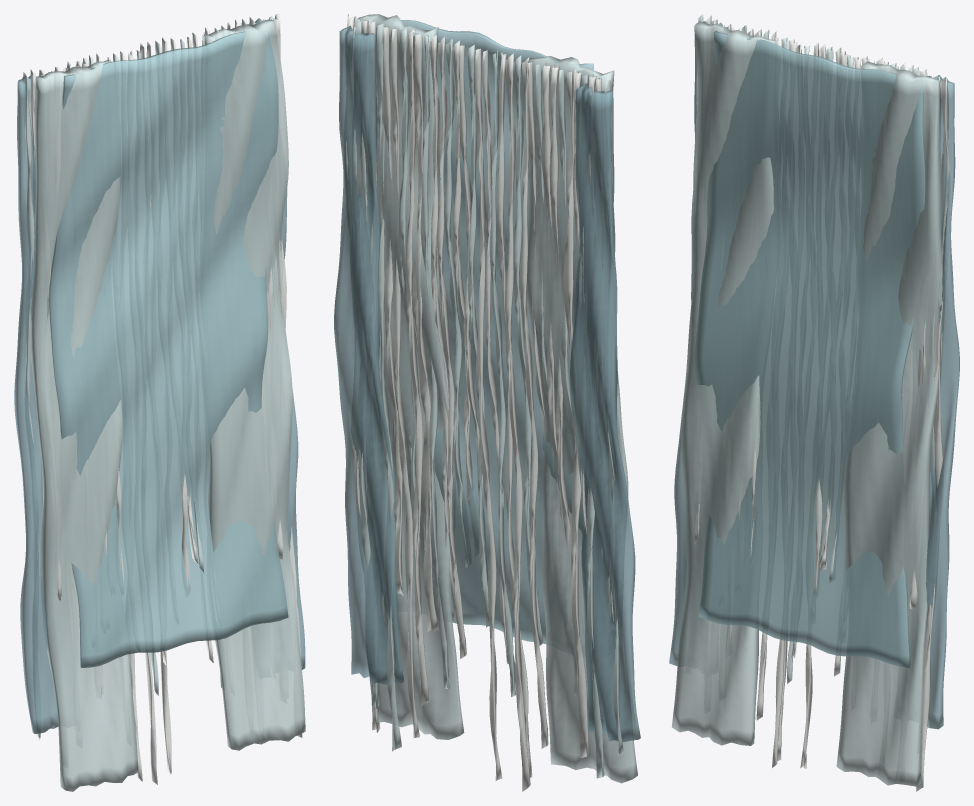
The model's file is waterfall-curtain.glb.
The picture shows the model from 3 angles, left to right: view 1: azimuth 30°, elevation 25°; view 2: azimuth 150°, elevation 25°; view 3: azimuth 330°, elevation 25°; orthographic projection. The views are drawn at different scales.
Parts seen in each view (by area): view 1: waterfall-curtain__water, waterfall-curtain__water_silver, waterfall-curtain__water_shadow, waterfall-curtain__water_foam; view 2: waterfall-curtain__water_silver, waterfall-curtain__water_foam, waterfall-curtain__water_shadow, waterfall-curtain__water; view 3: waterfall-curtain__water, waterfall-curtain__water_silver, waterfall-curtain__water_shadow, waterfall-curtain__water_foam.
Boxes of the visible parts, box(x1,y1,x2,y2) form: waterfall-curtain__water: box(48, 29, 288, 667); waterfall-curtain__water_silver: box(23, 16, 305, 791); waterfall-curtain__water_shadow: box(14, 18, 305, 733); waterfall-curtain__water_foam: box(29, 14, 302, 784); waterfall-curtain__water_silver: box(350, 14, 637, 783); waterfall-curtain__water_foam: box(344, 14, 614, 791); waterfall-curtain__water_shadow: box(334, 26, 640, 742); waterfall-curtain__water: box(384, 20, 593, 644); waterfall-curtain__water: box(694, 31, 925, 667); waterfall-curtain__water_silver: box(672, 14, 944, 786); waterfall-curtain__water_shadow: box(669, 20, 959, 729); waterfall-curtain__water_foam: box(694, 15, 949, 791).
Bounding box in the file's own units: 101 × 254 × 29.93.
